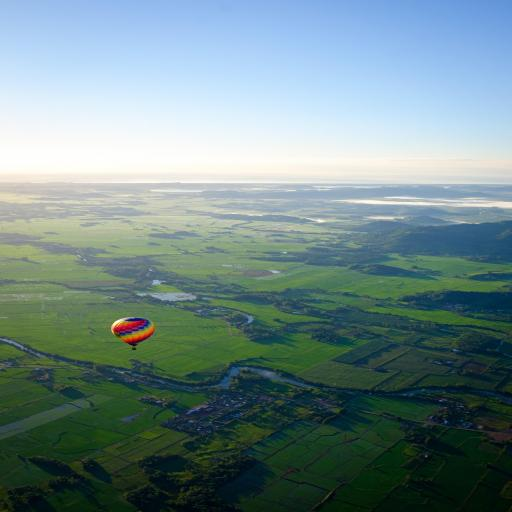hot air ballon: (110, 317, 156, 350)
